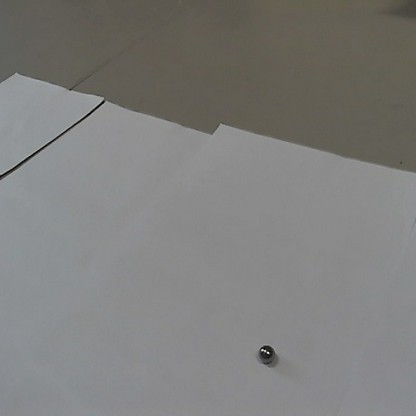ironball: (255, 343, 276, 363)
